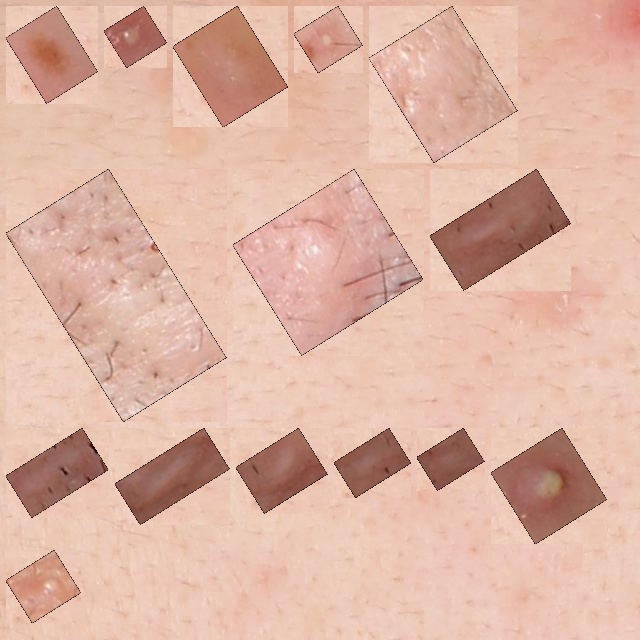hypertrophic_scar: (17, 180, 215, 410), (244, 180, 412, 344), (380, 17, 506, 151), (441, 180, 560, 279), (184, 17, 277, 116), (126, 439, 218, 513), (17, 439, 97, 506), (247, 439, 316, 502), (345, 439, 400, 486), (428, 439, 473, 479)
melasma: (17, 17, 87, 92)
pustule: (502, 439, 596, 533), (17, 561, 70, 612), (305, 17, 351, 62), (115, 17, 156, 56)
